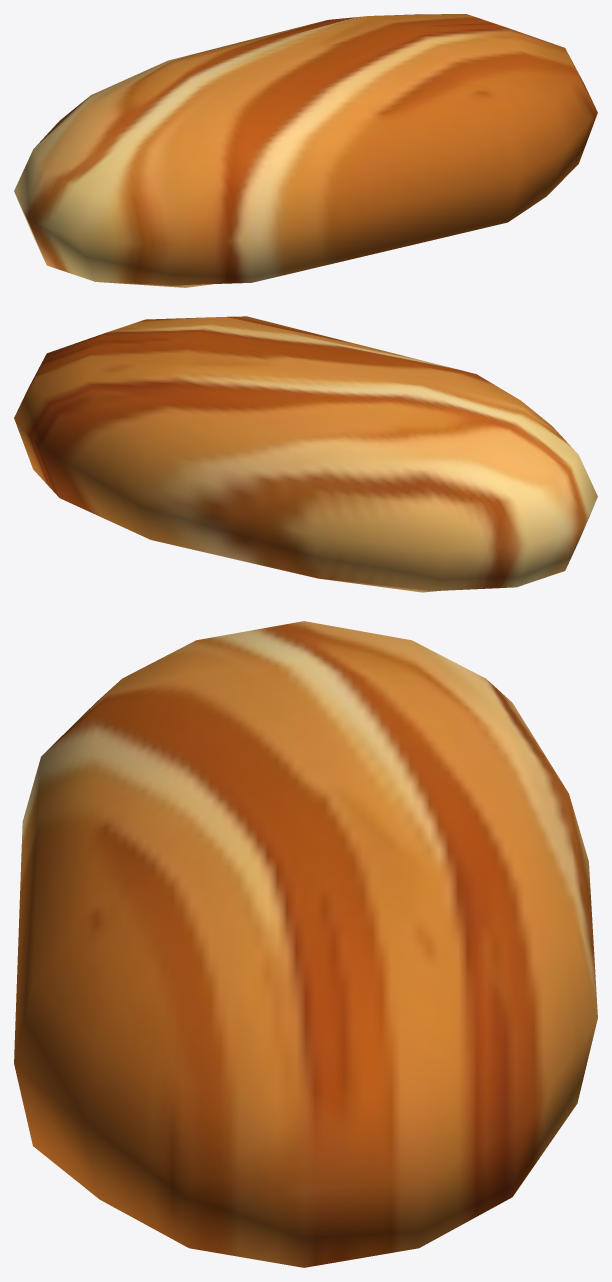
File: Bread_1.fbx
3 views of the same model, one above another, from view 1: azimuth 30°, elevation 25°; view 2: azimuth 150°, elevation 25°; view 3: azimuth 270°, elevation 25° (orthographic). The views are drawn at different scales.
Parts seen in each view (by area): view 1: Bread_1; view 2: Bread_1; view 3: Bread_1.
Part boxes in pixels (box(x1,y1,x2,y2)): Bread_1: box(14, 14, 597, 287); Bread_1: box(14, 316, 597, 592); Bread_1: box(14, 621, 597, 1267).
Size of the model in its own units: 0.4212 by 0.1117 by 0.2071.
